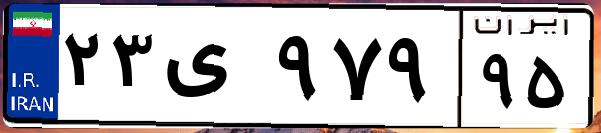2: (57, 26, 110, 100)
3: (110, 28, 158, 98)
5: (525, 38, 570, 115)
7: (330, 28, 385, 110)
9: (270, 28, 330, 110), (385, 28, 445, 110), (475, 38, 525, 113)
ی: (158, 20, 270, 120)
